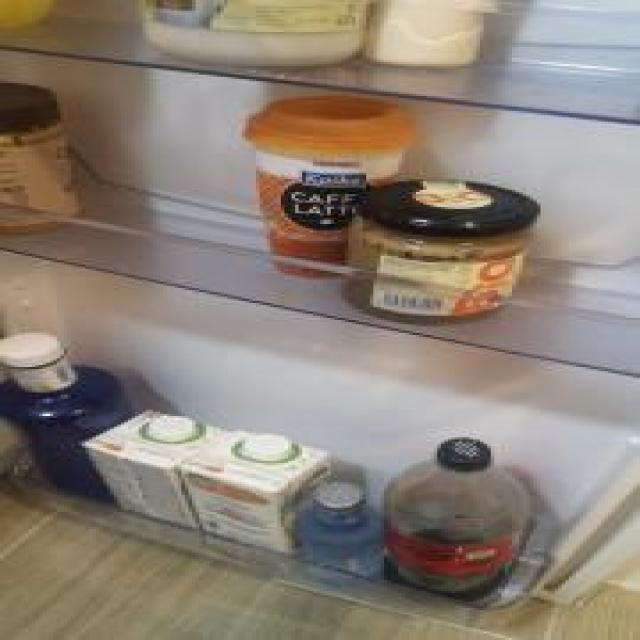milk: (176, 430, 336, 581), (74, 408, 234, 554)
